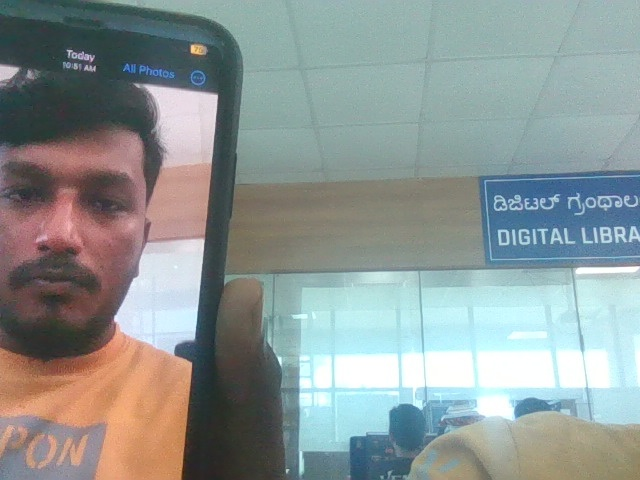fake: (0, 28, 238, 366)
